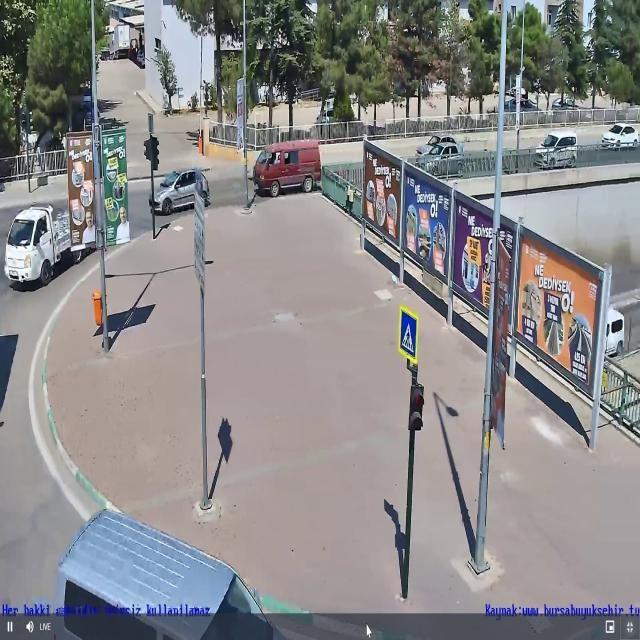Car: (148, 168, 212, 219), (417, 144, 464, 176), (598, 121, 638, 151), (415, 132, 458, 152)
Truck: (4, 206, 78, 290), (108, 22, 132, 58)
Van: (54, 505, 288, 640), (251, 139, 323, 196), (534, 130, 582, 169)
